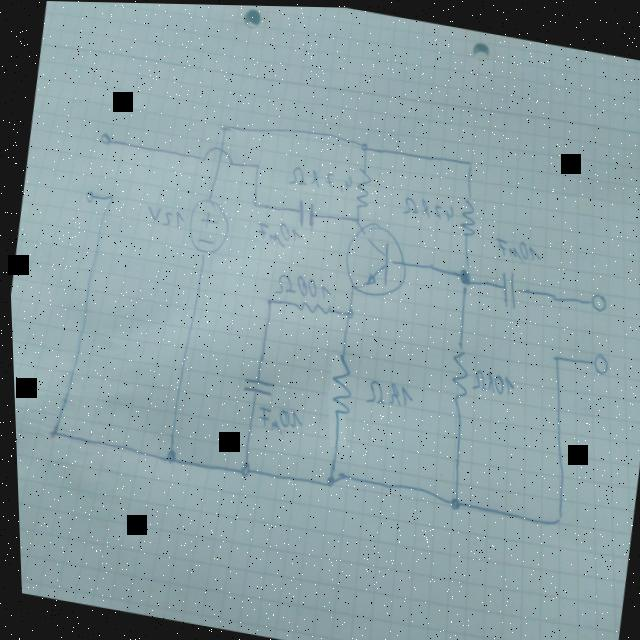capacitor: (494, 267, 520, 308), (237, 374, 274, 398), (295, 197, 318, 229)
crossover: (197, 141, 235, 169)
junction: (453, 264, 473, 289), (317, 468, 337, 493), (442, 489, 461, 513), (546, 508, 564, 530), (232, 459, 250, 479), (159, 446, 177, 465), (43, 424, 60, 442), (218, 120, 232, 134), (462, 156, 475, 170), (548, 350, 559, 366), (342, 307, 353, 321), (262, 295, 273, 308), (358, 139, 368, 152), (351, 213, 361, 224), (252, 160, 261, 171), (250, 198, 259, 209), (105, 193, 114, 203)
resistor: (322, 347, 358, 418), (442, 340, 474, 403), (453, 193, 480, 239), (350, 164, 374, 212), (292, 296, 333, 319)
source: (181, 195, 232, 259)
terminal: (585, 289, 609, 313), (587, 349, 609, 374), (81, 187, 95, 206), (97, 131, 113, 147)
text: (285, 161, 353, 194), (270, 270, 332, 304), (252, 402, 303, 438), (361, 376, 413, 410), (253, 217, 302, 253), (490, 232, 543, 265), (398, 193, 455, 222), (468, 365, 515, 398), (143, 204, 186, 230)
transistor: (336, 214, 413, 302)
